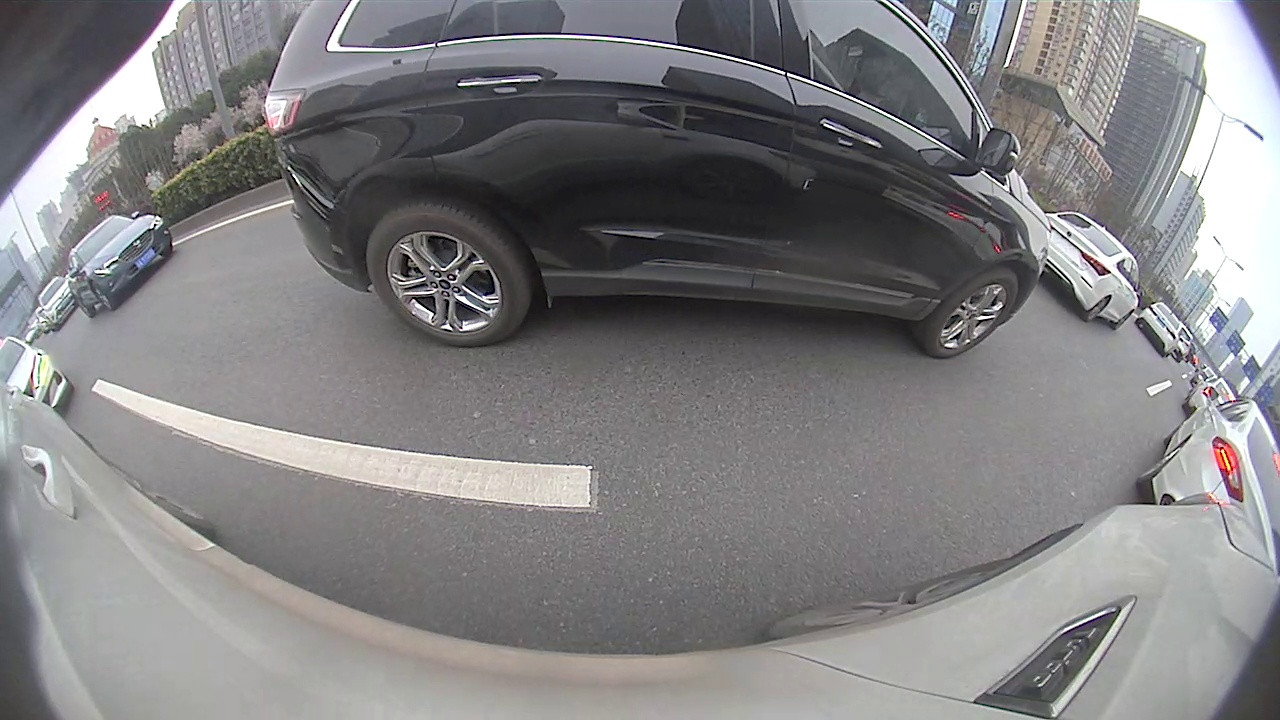car: (263, 2, 1054, 360), (1133, 385, 1278, 574), (1045, 208, 1146, 334), (65, 210, 175, 318), (1133, 300, 1185, 358), (33, 278, 77, 329)
front: (923, 262, 1019, 359)
rear: (363, 208, 532, 350), (1082, 296, 1111, 325)
